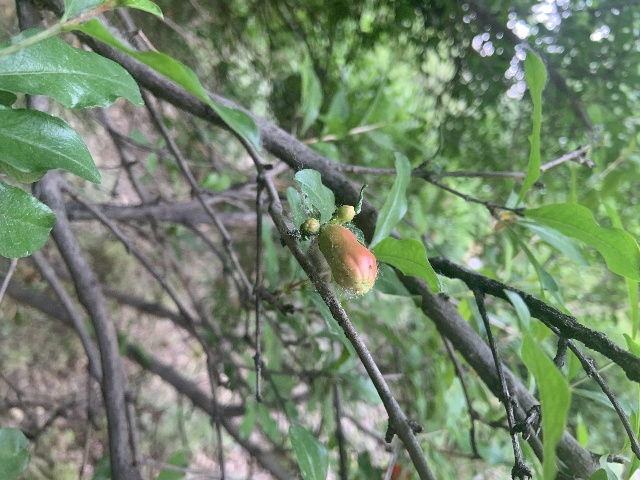bud: (317, 223, 377, 293), (333, 205, 355, 222), (303, 218, 320, 233)
